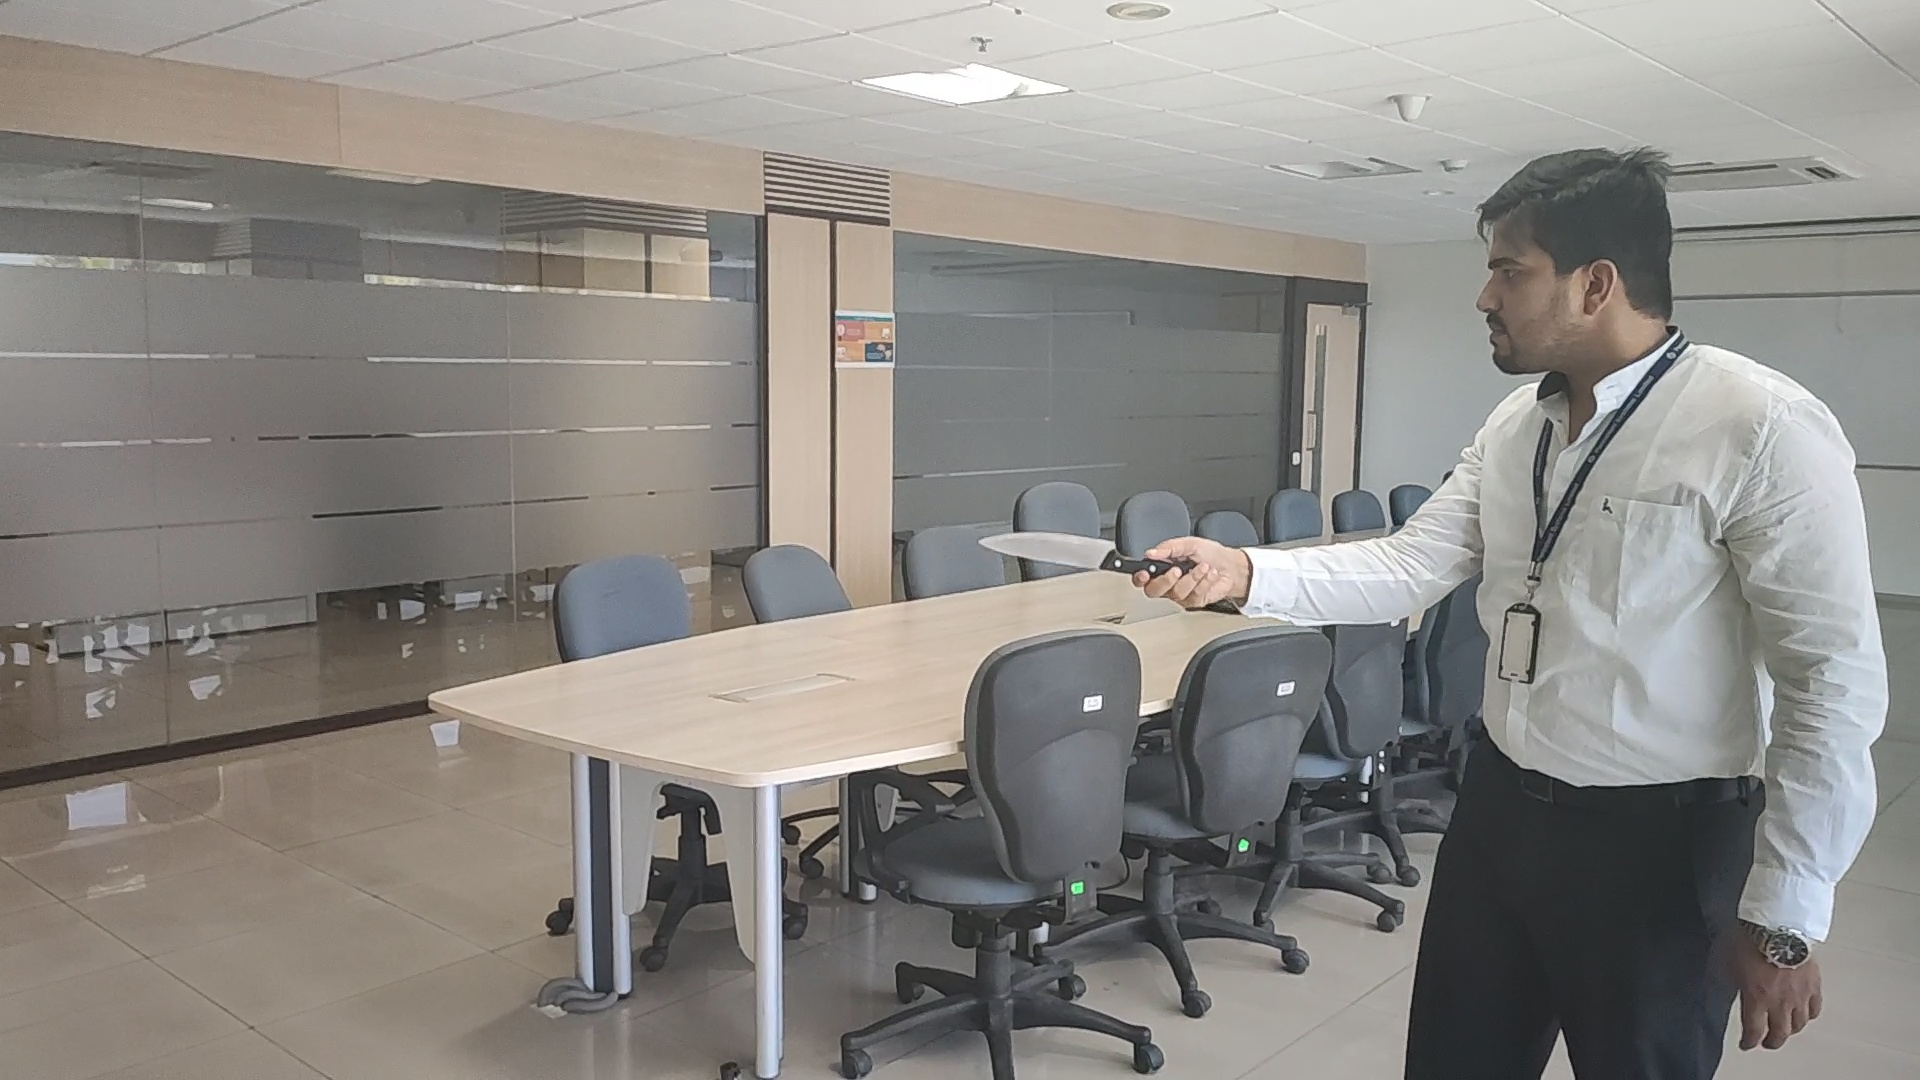knife: (977, 530, 1160, 578)
